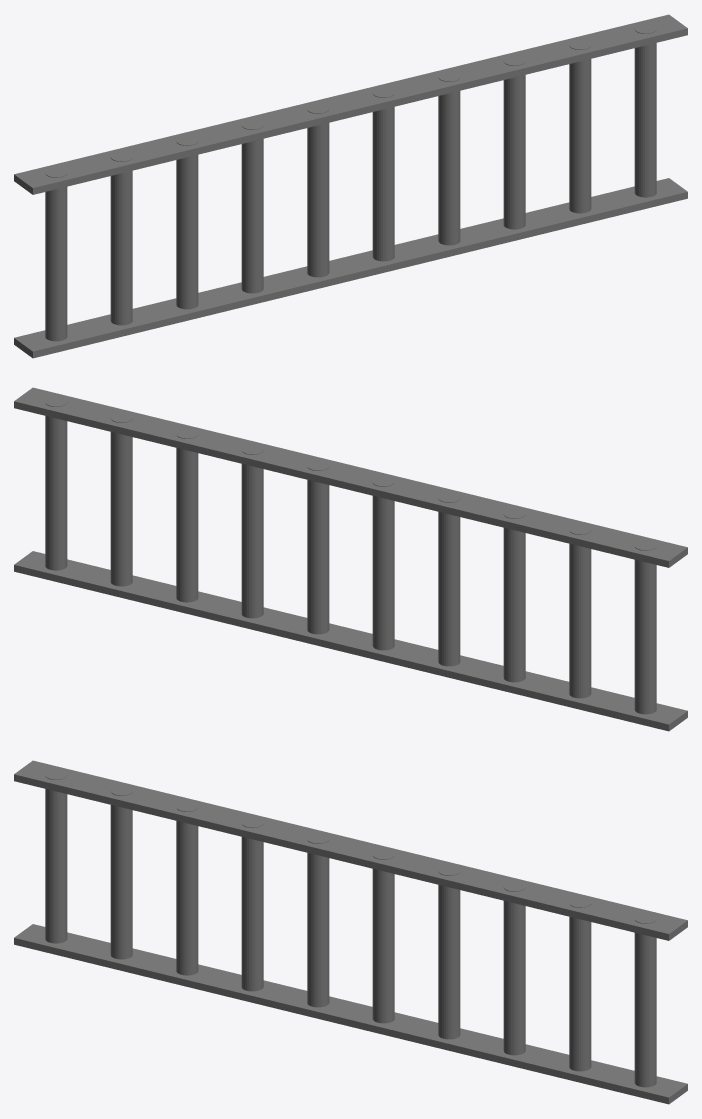
File: cage1.obj
3 renders of one model, top to bottom at view 1: azimuth 30°, elevation 25°; view 2: azimuth 150°, elevation 25°; view 3: azimuth 330°, elevation 25°, orthographic.
Visible parts, largest first — view 1: 立方体.001; view 2: 立方体.001; view 3: 立方体.001.
Boxes of the visible parts, bbox=[...] form: 立方体.001: bbox=[14, 14, 687, 358]; 立方体.001: bbox=[14, 387, 687, 731]; 立方体.001: bbox=[14, 760, 687, 1104].
Size of the model in its own units: 40 by 10 by 2.
